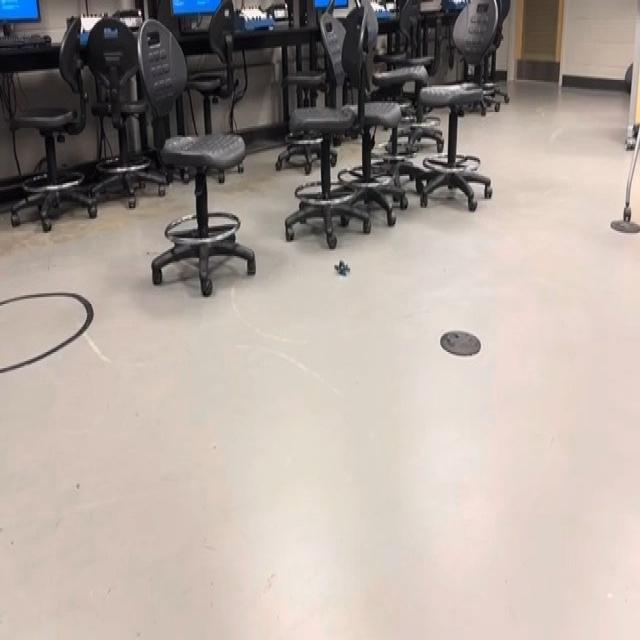drone: (326, 247, 357, 285)
